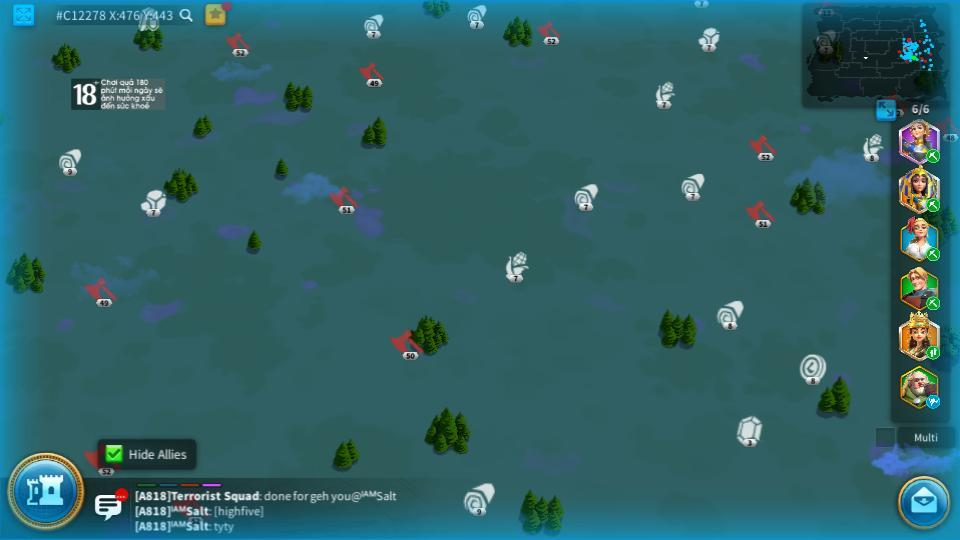gem-z-out: (735, 415, 764, 446)
march_farming: (925, 197, 941, 212), (925, 297, 941, 308), (924, 250, 939, 261)
march_idle: (925, 396, 942, 408)
march_marching: (925, 345, 941, 359), (923, 148, 940, 161)
